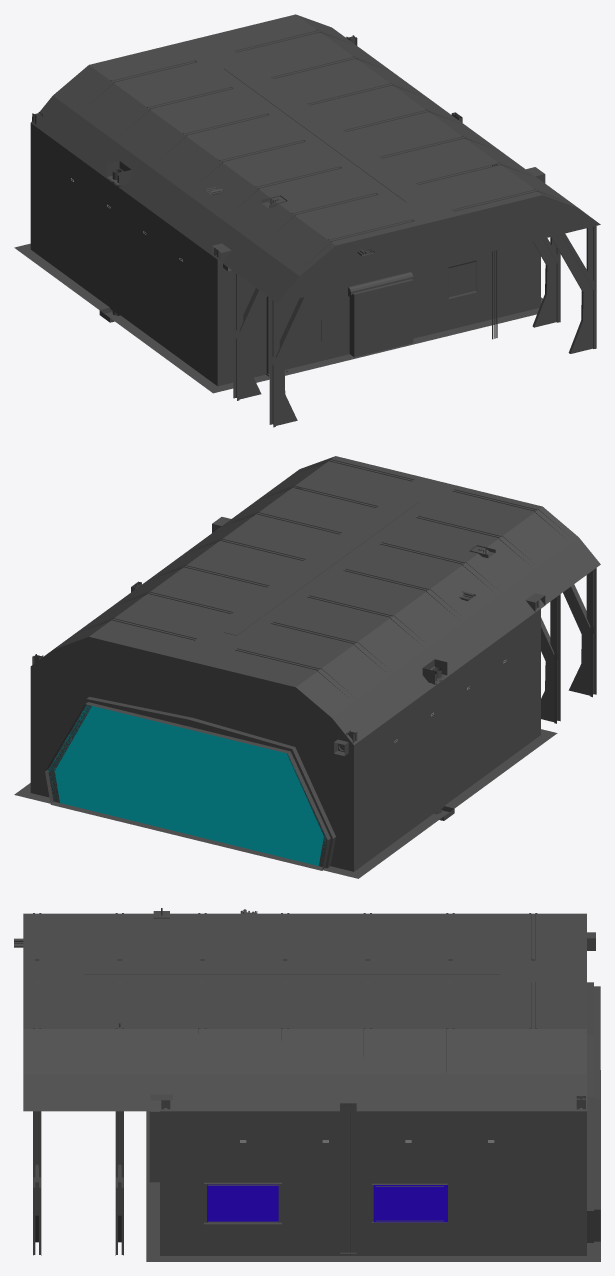
Rendered from FBX_WindowCleaner.fbx.
3 views of the same model, one above another, from view 1: azimuth 30°, elevation 25°; view 2: azimuth 150°, elevation 25°; view 3: azimuth 270°, elevation 25° (orthographic). The views are drawn at different scales.
Visible parts, largest first — view 1: Warehouse, Buttresses, Gantry, Pipes; view 2: Warehouse, Buttresses, Gantry; view 3: Warehouse, Gantry, Buttresses, Pipes.
Part boxes in pixels (left/top/right/bottom): Warehouse: left=14, top=14, right=600, bottom=393; Buttresses: left=81, top=30, right=596, bottom=427; Gantry: left=224, top=65, right=418, bottom=201; Pipes: left=112, top=113, right=497, bottom=339; Warehouse: left=14, top=456, right=600, bottom=878; Buttresses: left=83, top=458, right=596, bottom=723; Gantry: left=224, top=499, right=418, bottom=635; Warehouse: left=23, top=911, right=600, bottom=1261; Gantry: left=84, top=967, right=500, bottom=974; Buttresses: left=33, top=913, right=537, bottom=1255; Pipes: left=118, top=908, right=351, bottom=1255.
Bounding box in the file's own units: 10984 × 5459 × 14197.
